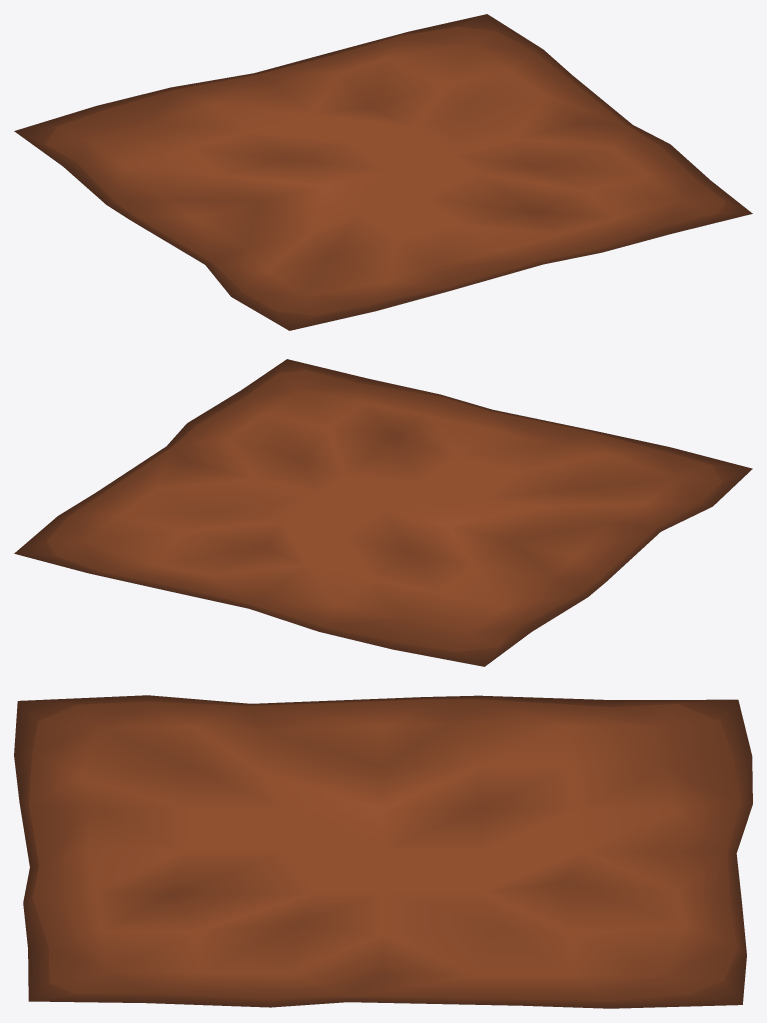
The model's file is TSP_Rug_04D.fbx.
3 views of the same model, one above another, from view 1: azimuth 30°, elevation 25°; view 2: azimuth 150°, elevation 25°; view 3: azimuth 270°, elevation 25° (orthographic). The views are drawn at different scales.
Parts seen in each view (by area): view 1: TSP_Rug_04D; view 2: TSP_Rug_04D; view 3: TSP_Rug_04D.
Boxes of the visible parts, x1,y1,x2,y2 form: TSP_Rug_04D: (14,14,752,330); TSP_Rug_04D: (14,359,752,666); TSP_Rug_04D: (14,695,752,1008).
Size of the model in its own units: 6.76 by 0.0225 by 6.73.
